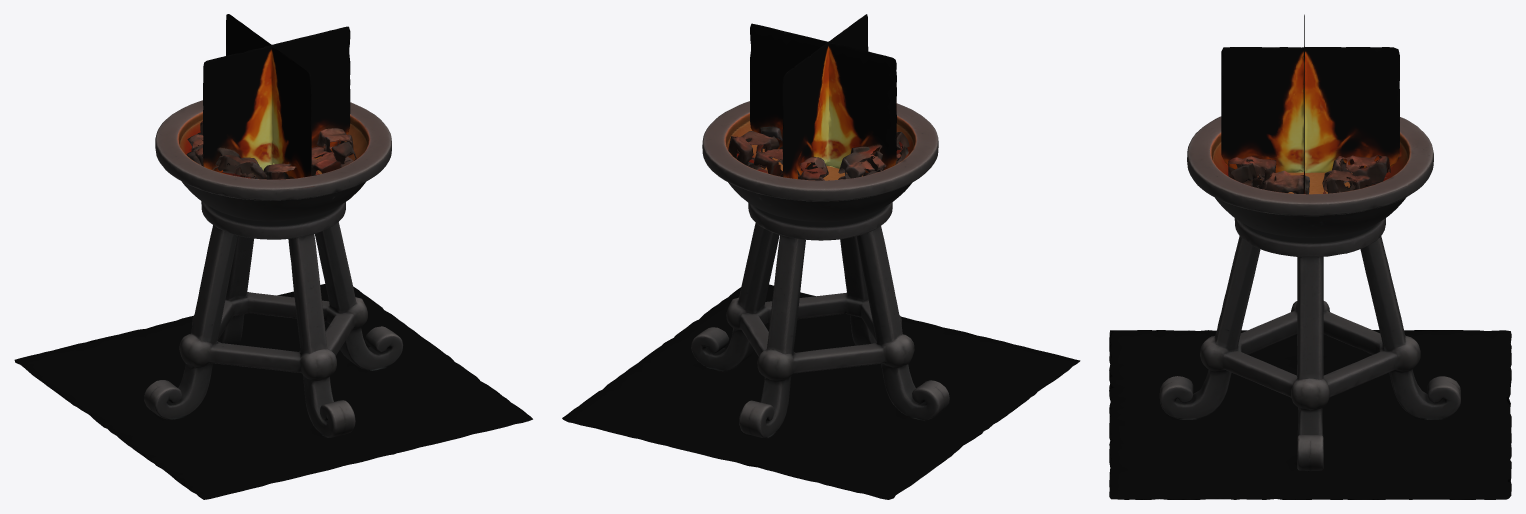
File: brazier_t1.glb
3 views of the same model, side by side, from view 1: azimuth 30°, elevation 25°; view 2: azimuth 150°, elevation 25°; view 3: azimuth 270°, elevation 25° (orthographic). The views are drawn at different scales.
Visible parts, largest first — view 1: geometry_0; view 2: geometry_0; view 3: geometry_0.
Boxes of the visible parts, x1,y1,x2,y2 form: geometry_0: [14, 14, 532, 499]; geometry_0: [562, 14, 1080, 499]; geometry_0: [1109, 14, 1511, 499].
Bounding box in the file's own units: 0.9979 × 1 × 0.9996.
Materials: 1 (1 with a texture image).
